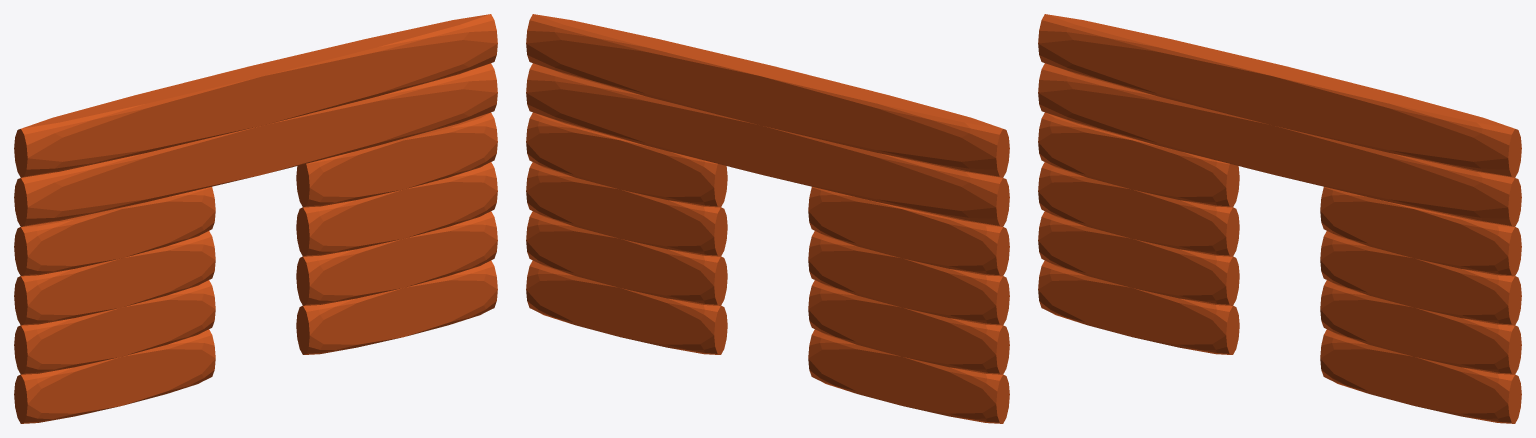
The model's file is Wall_Doorway.fbx.
3 renders of one model, left to right at view 1: azimuth 30°, elevation 25°; view 2: azimuth 150°, elevation 25°; view 3: azimuth 330°, elevation 25°, orthographic.
Parts seen in each view (by area): view 1: Cube.012, Cube.011, Cube.010, Cube.013, Cube.014, Cube.015, Cube.007, Cube.009, Cube.008, Cube.016; view 2: Cube.012, Cube.011, Cube.010, Cube.013, Cube.014, Cube.015, Cube.007, Cube.009, Cube.008, Cube.016; view 3: Cube.012, Cube.011, Cube.013, Cube.010, Cube.009, Cube.008, Cube.016, Cube.014, Cube.015, Cube.007.
Part boxes in pixels (bbox=[...]): Cube.012: bbox=[14, 14, 497, 177]; Cube.011: bbox=[14, 63, 497, 226]; Cube.010: bbox=[14, 187, 215, 276]; Cube.013: bbox=[296, 112, 497, 207]; Cube.014: bbox=[296, 162, 497, 256]; Cube.015: bbox=[296, 211, 497, 305]; Cube.007: bbox=[14, 329, 215, 423]; Cube.009: bbox=[14, 231, 215, 325]; Cube.008: bbox=[14, 280, 215, 374]; Cube.016: bbox=[296, 260, 497, 354]; Cube.012: bbox=[526, 14, 1009, 177]; Cube.011: bbox=[526, 63, 1009, 226]; Cube.010: bbox=[808, 187, 1009, 276]; Cube.013: bbox=[526, 112, 727, 207]; Cube.014: bbox=[526, 162, 727, 256]; Cube.015: bbox=[526, 211, 727, 305]; Cube.007: bbox=[808, 329, 1009, 423]; Cube.009: bbox=[808, 231, 1009, 325]; Cube.008: bbox=[808, 280, 1009, 374]; Cube.016: bbox=[526, 260, 727, 354]; Cube.012: bbox=[1038, 14, 1521, 177]; Cube.011: bbox=[1038, 63, 1521, 226]; Cube.013: bbox=[1320, 187, 1521, 276]; Cube.010: bbox=[1038, 112, 1239, 207]; Cube.009: bbox=[1038, 162, 1239, 256]; Cube.008: bbox=[1038, 211, 1239, 305]; Cube.016: bbox=[1320, 329, 1521, 423]; Cube.014: bbox=[1320, 231, 1521, 325]; Cube.015: bbox=[1320, 280, 1521, 374]; Cube.007: bbox=[1038, 260, 1239, 354].
Size of the model in its own units: 500 by 300 by 25.
